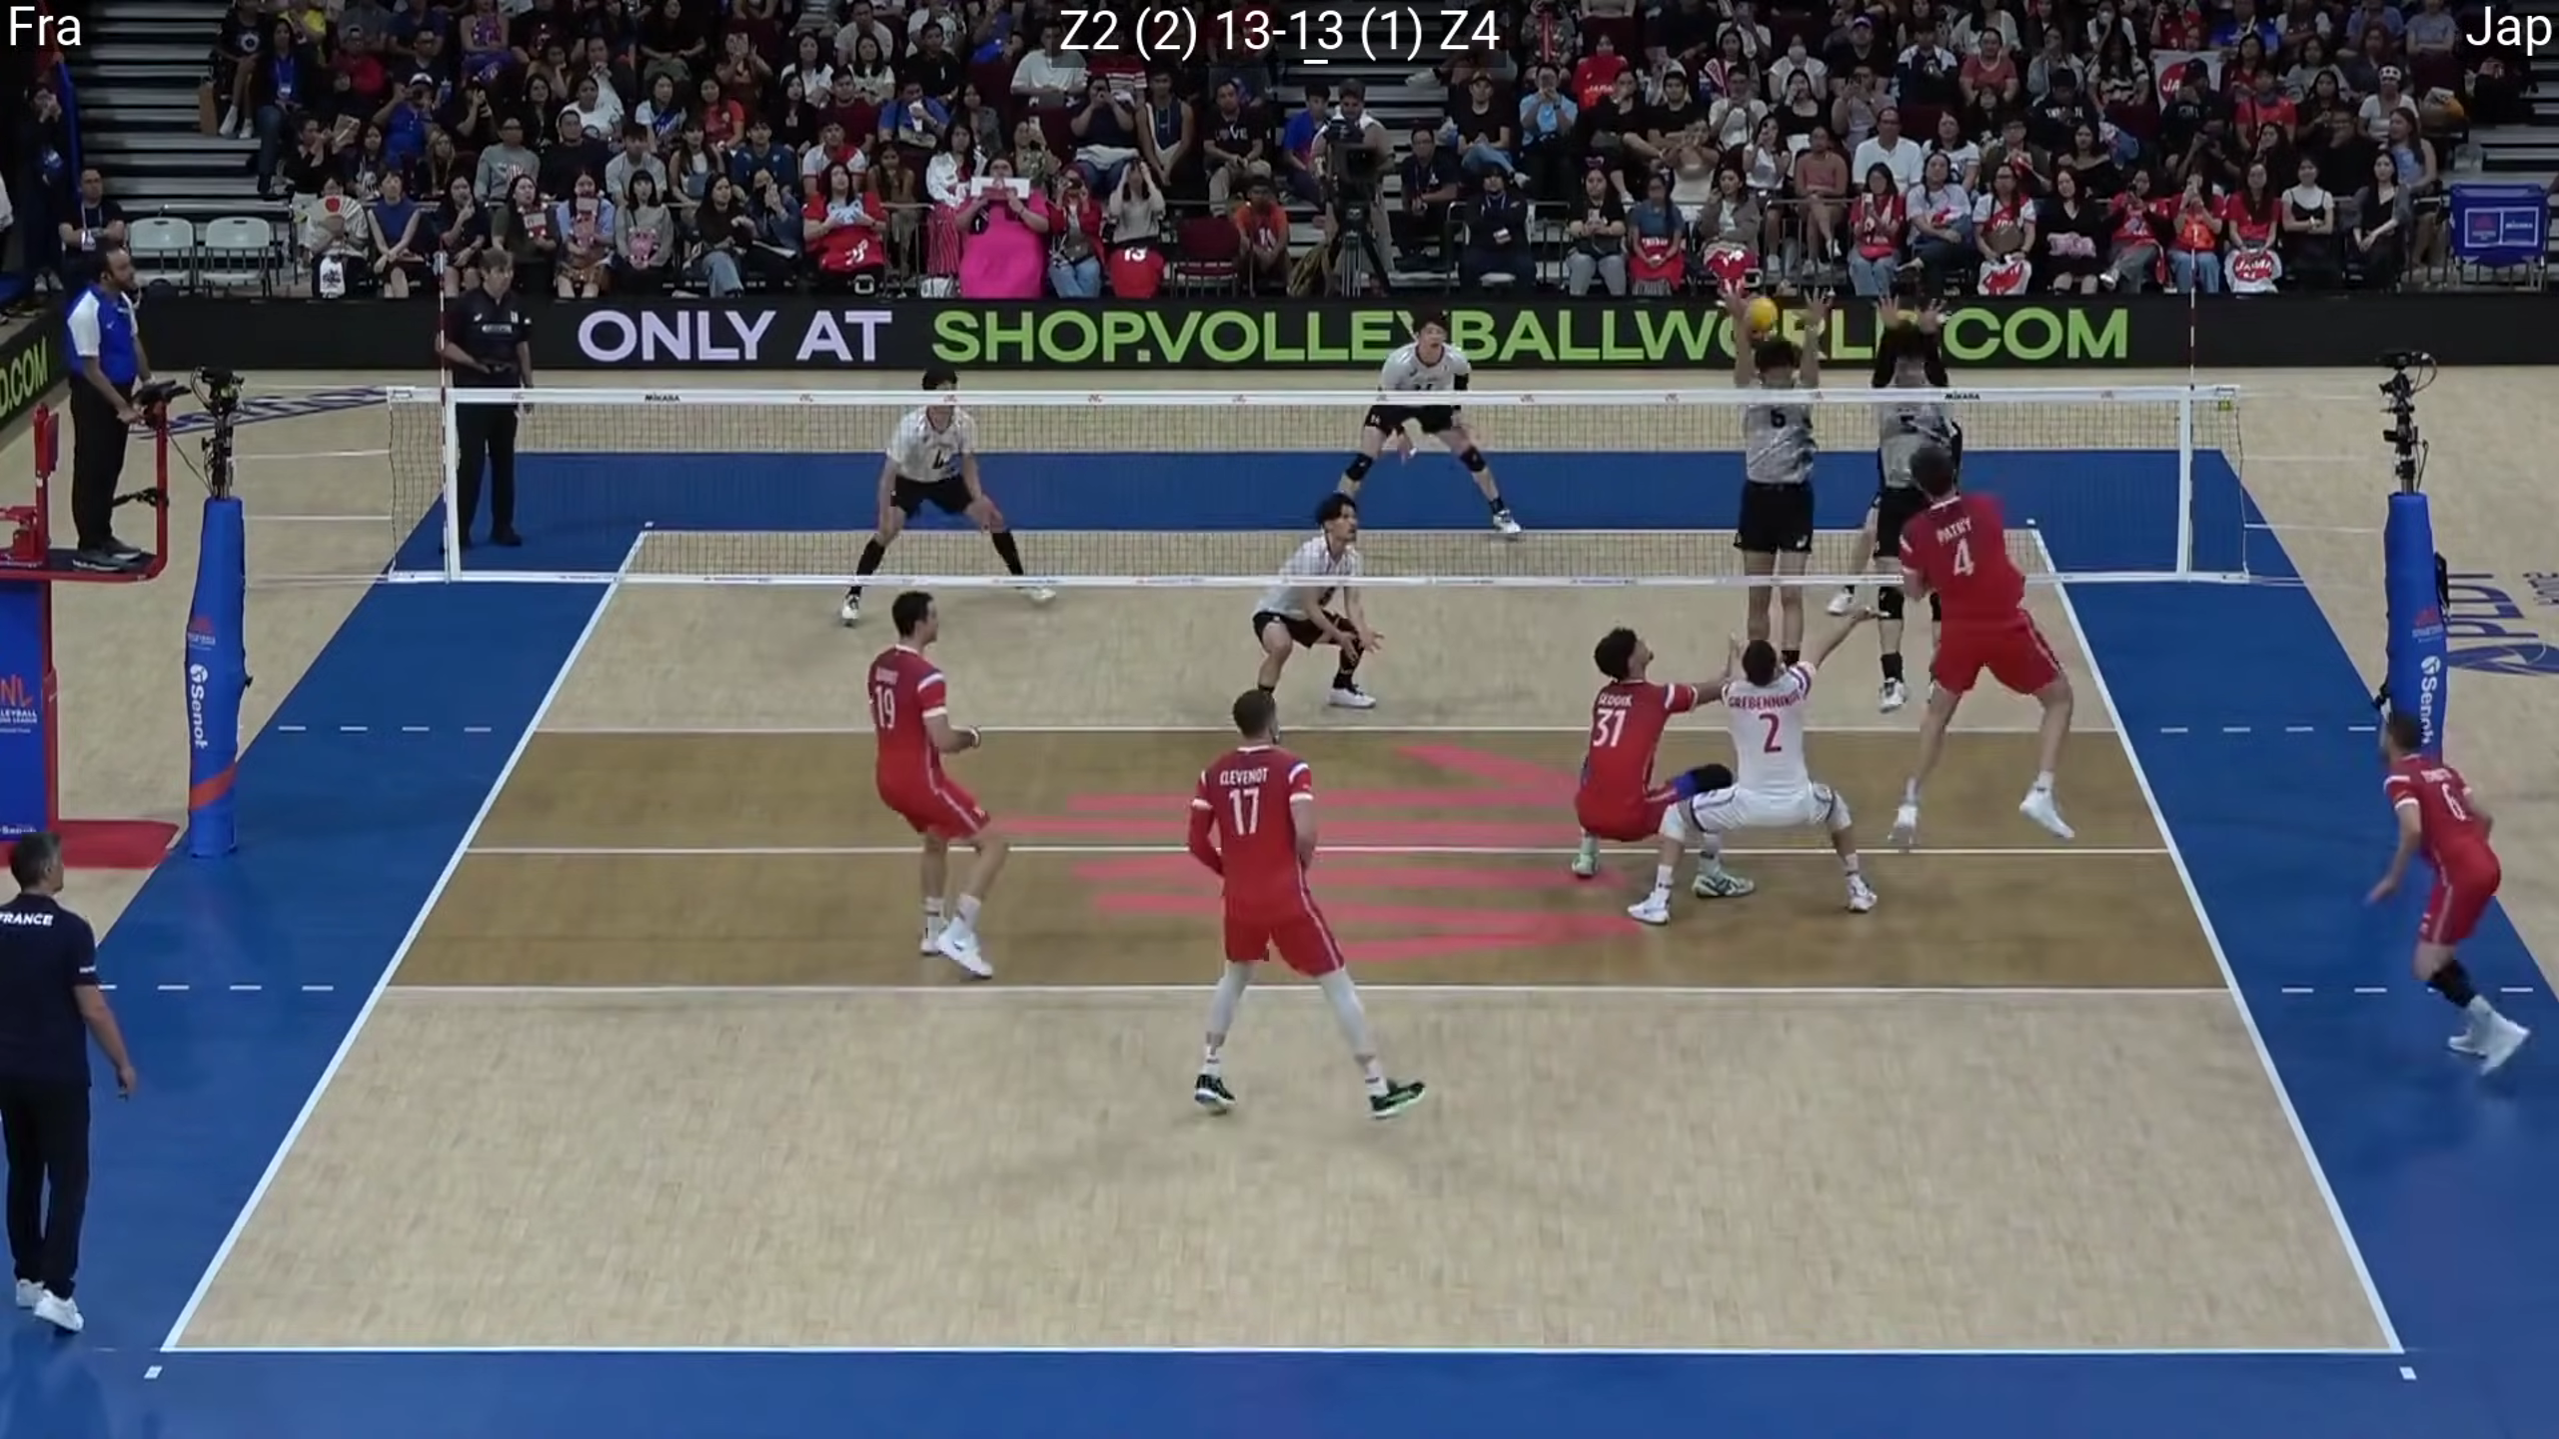Ball: (1745, 295, 1780, 332)
